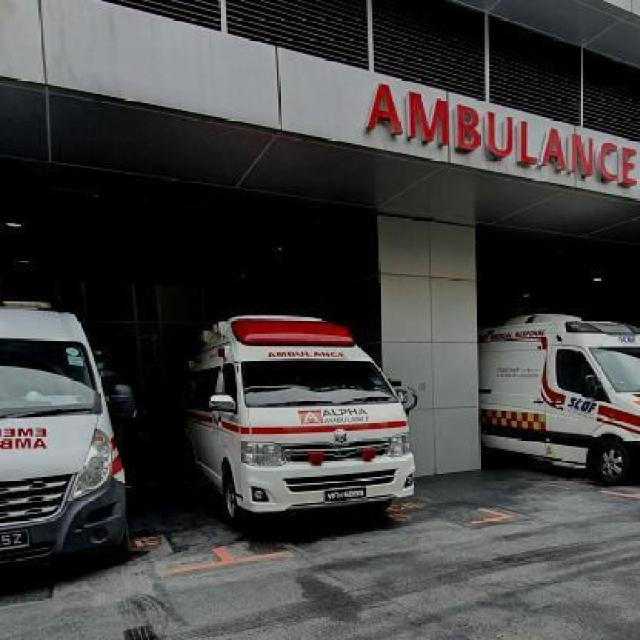Ambulance: (188, 302, 436, 512), (0, 286, 157, 565), (491, 297, 640, 506)
